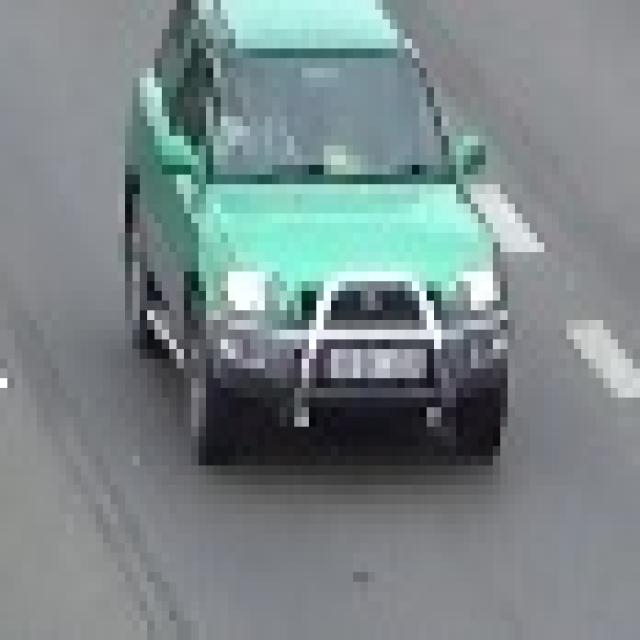SUV: (132, 0, 493, 446)
